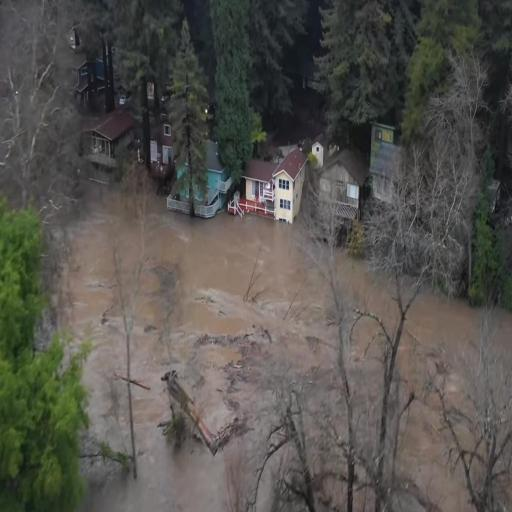flood: (47, 178, 348, 510), (383, 289, 484, 510), (348, 320, 384, 510), (336, 249, 397, 332), (494, 306, 512, 355), (472, 307, 482, 313)
house: (242, 136, 311, 227), (173, 134, 233, 220), (320, 142, 368, 247), (84, 106, 139, 180), (370, 118, 406, 222), (144, 78, 178, 184), (68, 58, 110, 100)
